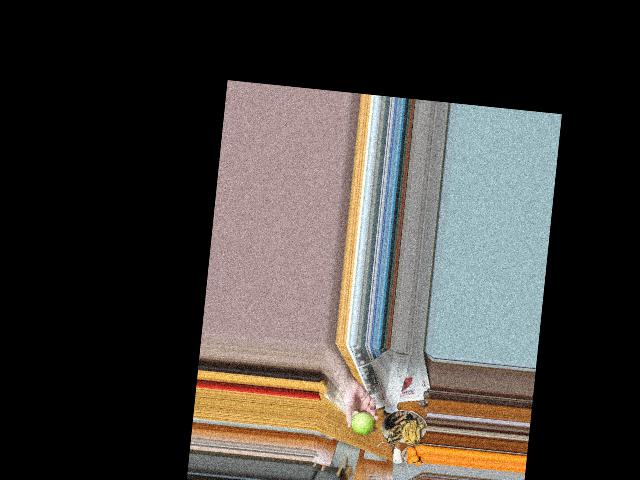apple: (351, 411, 376, 437)
